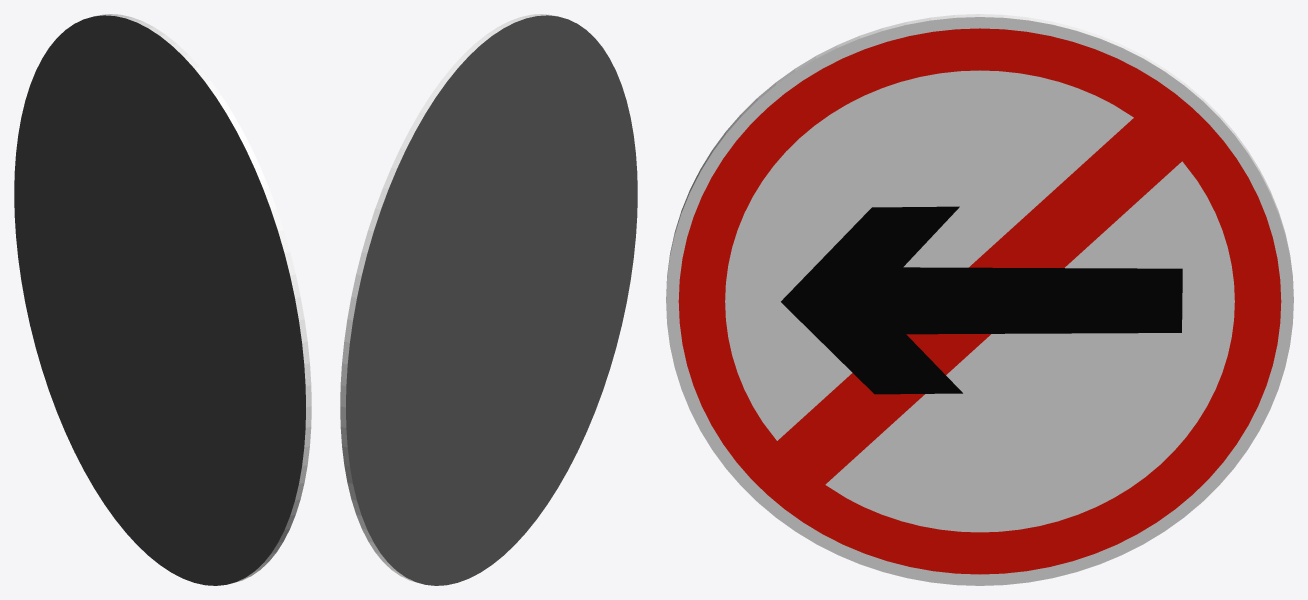
Rendered from 禁止直行.gltf.
3 views of the same model, side by side, from view 1: azimuth 30°, elevation 25°; view 2: azimuth 150°, elevation 25°; view 3: azimuth 270°, elevation 25° (orthographic). The views are drawn at different scales.
Visible parts, largest first — view 1: 圆环; view 2: 圆环; view 3: 圆环, BezierCurve.001.
Boxes of the visible parts, box(x1,y1,x2,y2) form: 圆环: box(14, 14, 311, 585); 圆环: box(340, 14, 637, 585); 圆环: box(666, 14, 1293, 585); BezierCurve.001: box(781, 206, 1182, 394).
Bounding box in the file's own units: 0.0111 × 0.8 × 0.8.
